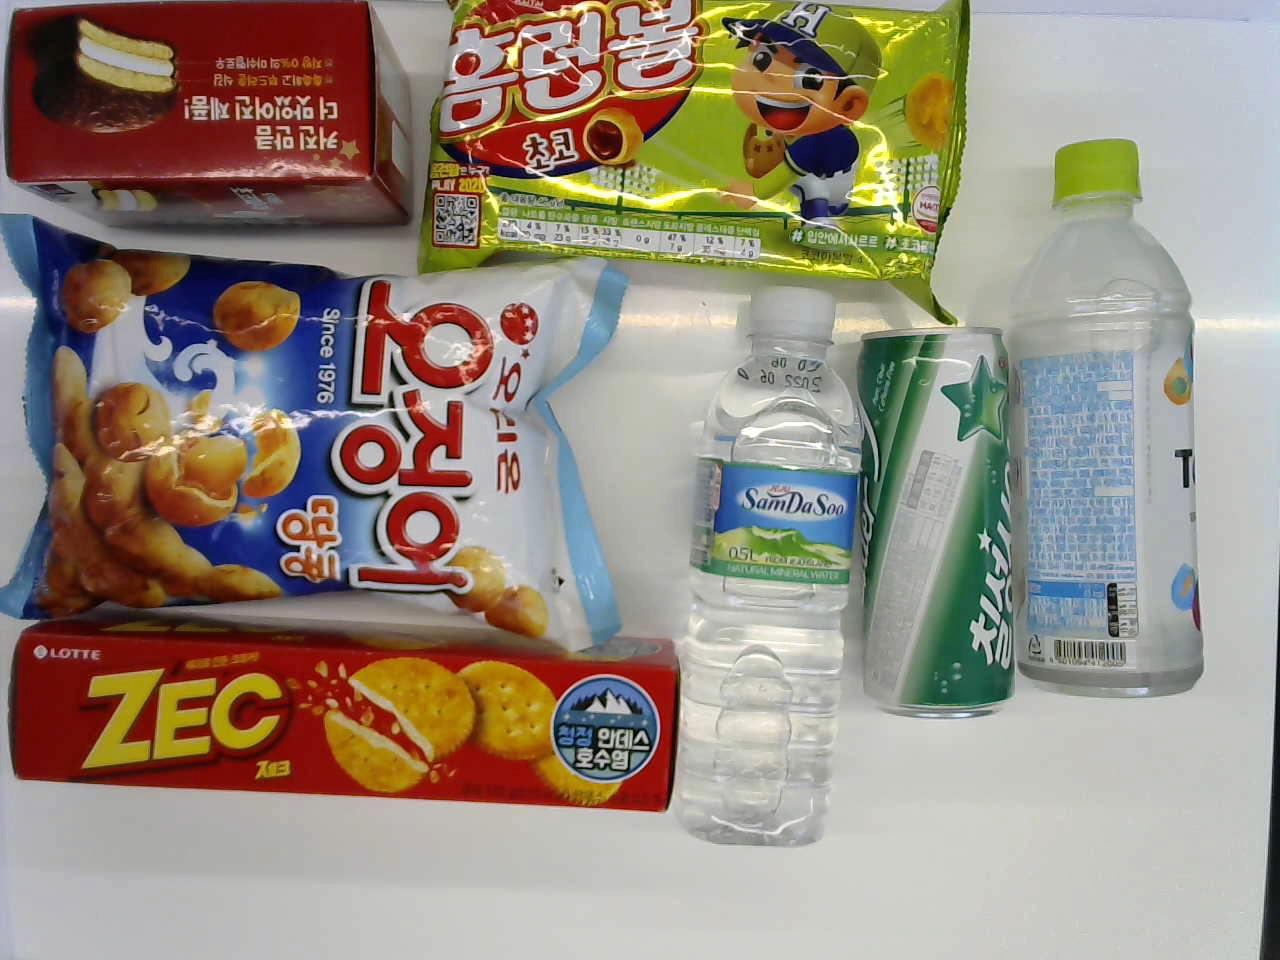chocopie: (0, 0, 414, 233)
cidar: (854, 316, 1017, 736)
homerunball: (425, 0, 985, 314)
samdasu: (669, 279, 858, 864)
squid_peanut: (15, 211, 617, 645)
toreta: (1014, 129, 1204, 713)
zec: (10, 625, 683, 802)
